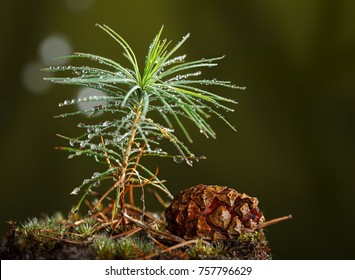Pc: (168, 181, 260, 242)
